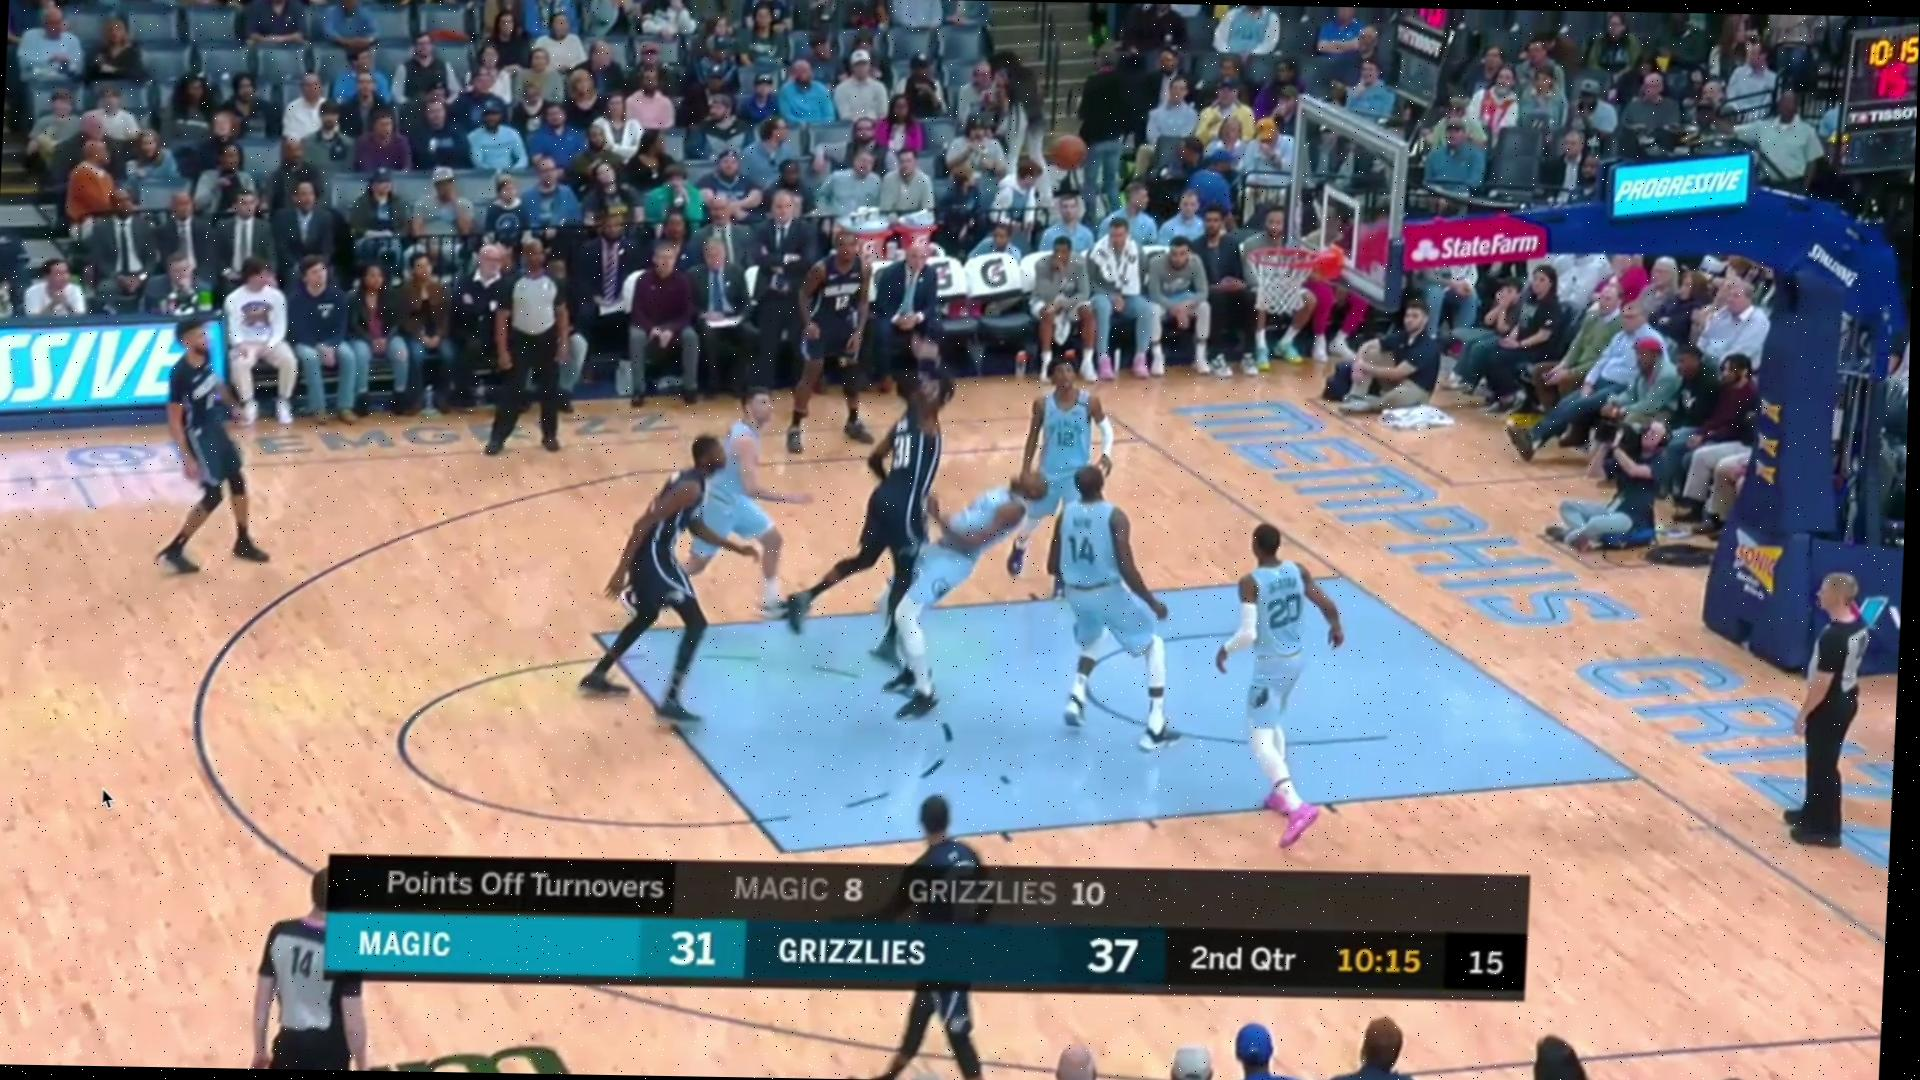foul: (849, 365, 1025, 698)
